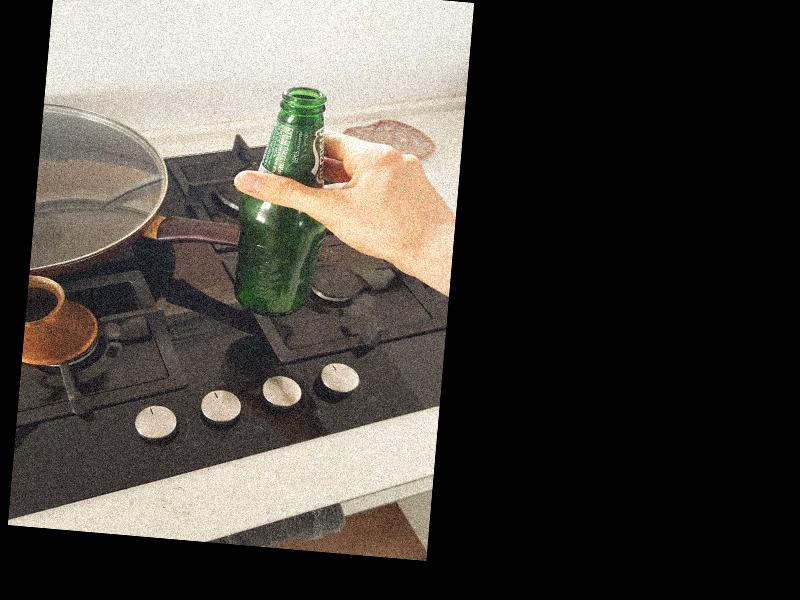Beer: (232, 85, 328, 318)
